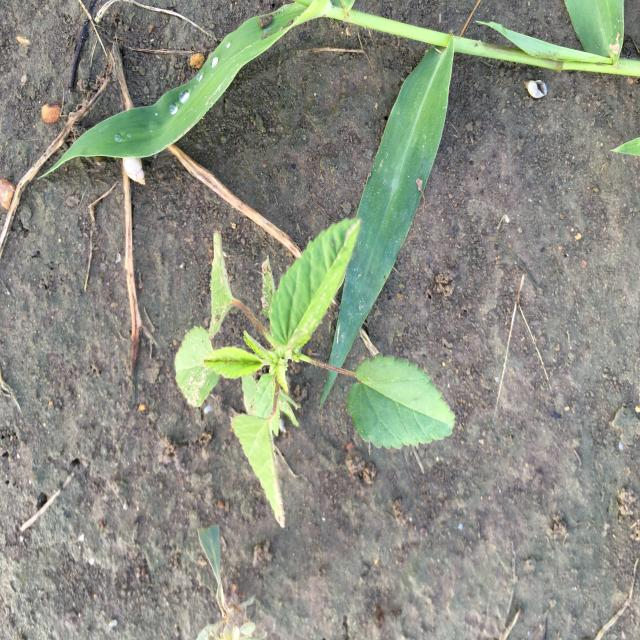PricklySida: (172, 215, 460, 531)
